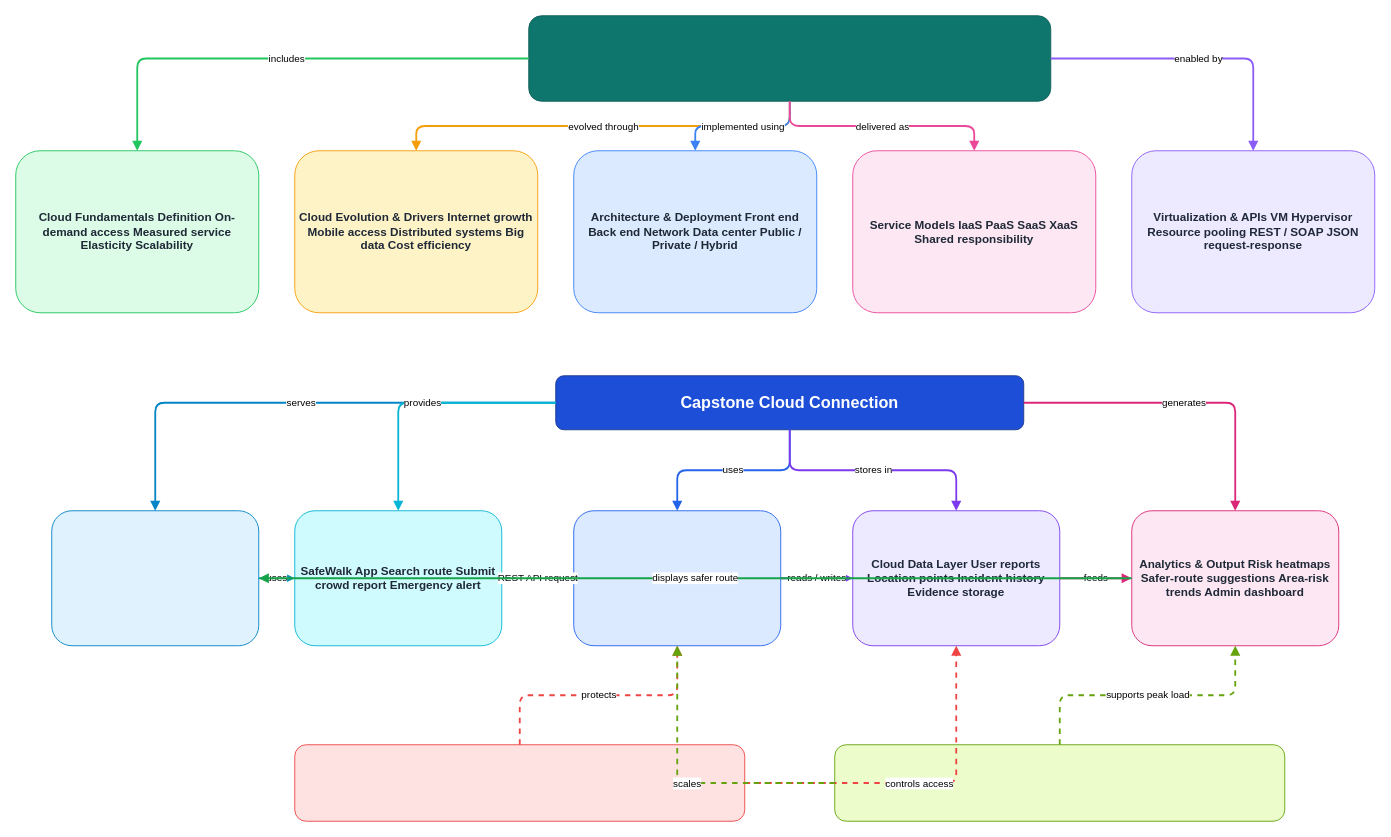
Image size: 1391x837. Some labels were removed from this diagram. Here are the shapes that lost their labels. From the top down, the box of each, then its label:
(528, 15, 1051, 101): SAFEWALK CLOUD ROUTE INTELLIGENCE Using Crowd Reports and Risk Heatmaps
(51, 510, 259, 646): Users Pedestrians Students Commuters Visitors
(573, 510, 781, 646): Cloud Backend Validate reports Calculate risk score Rank safer routes
(294, 744, 745, 821): Security Controls HTTPS • Authentication • RBAC • Encryption • Privacy
(834, 744, 1285, 821): Scalability & Elasticity Auto-scale APIs, map requests and report processing
